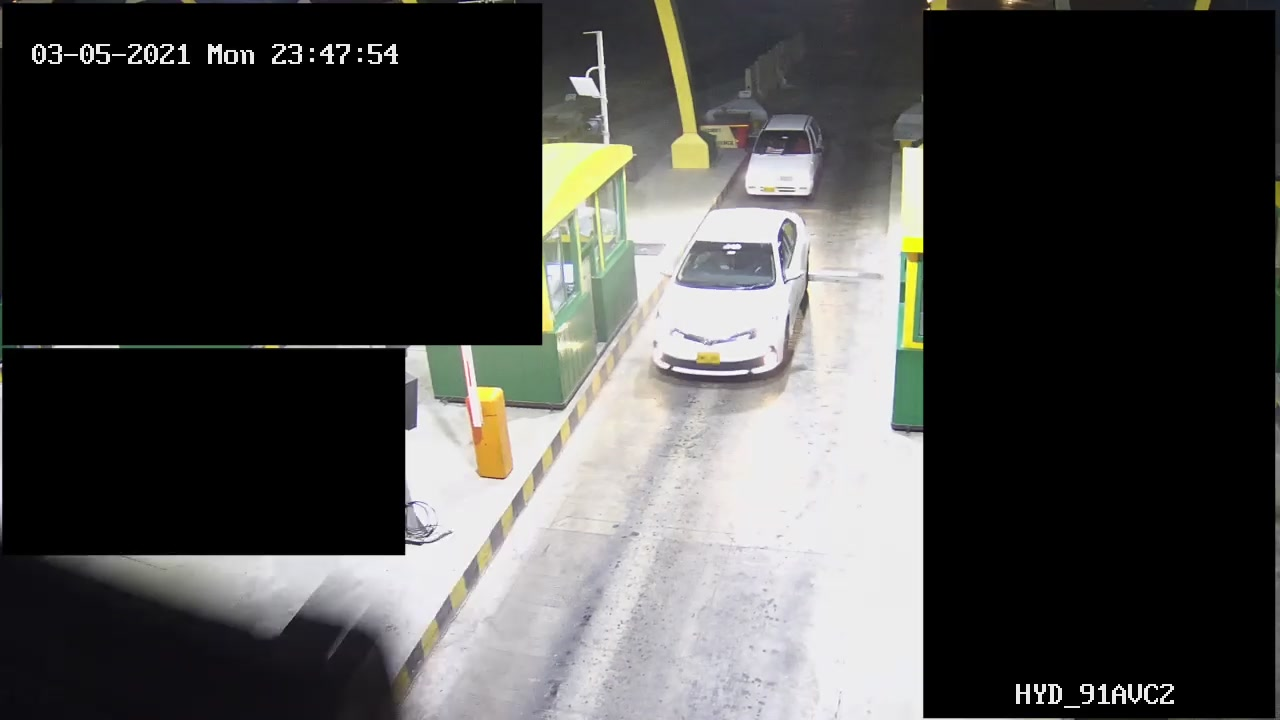F1: (644, 204, 818, 395)
